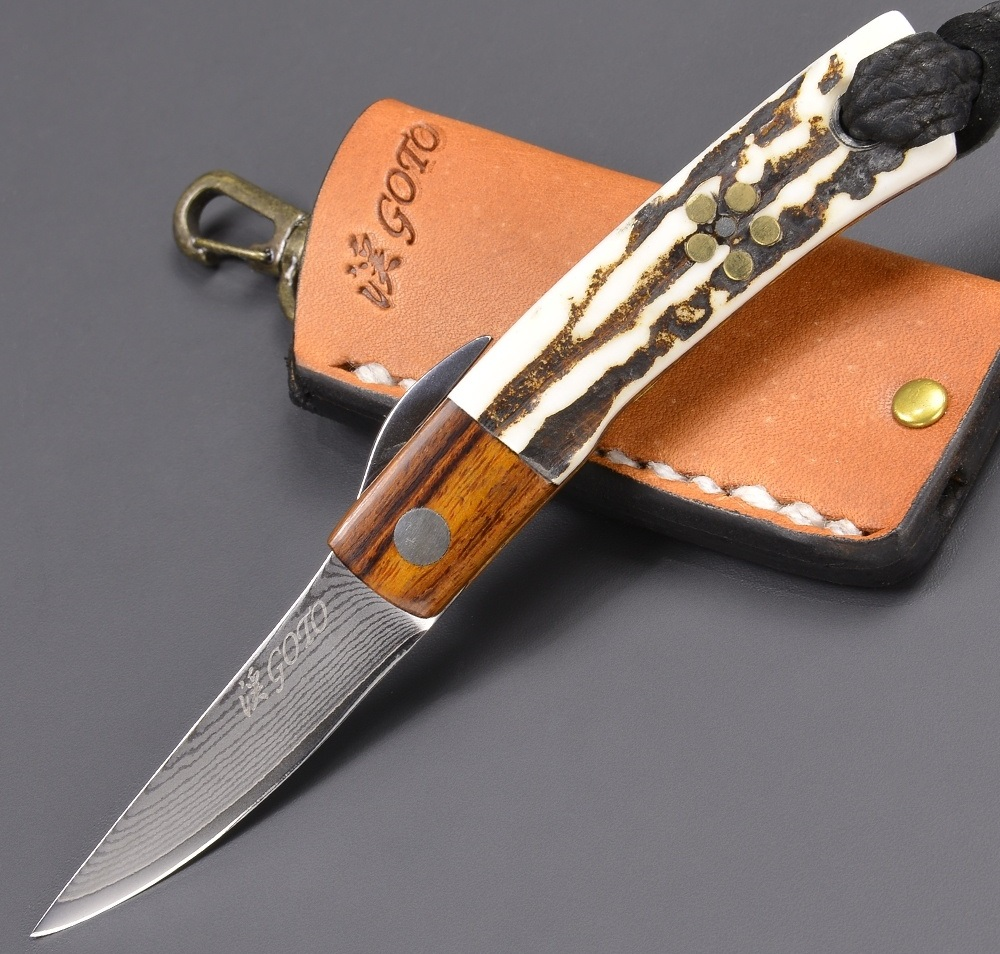knife: (21, 483, 453, 944)
